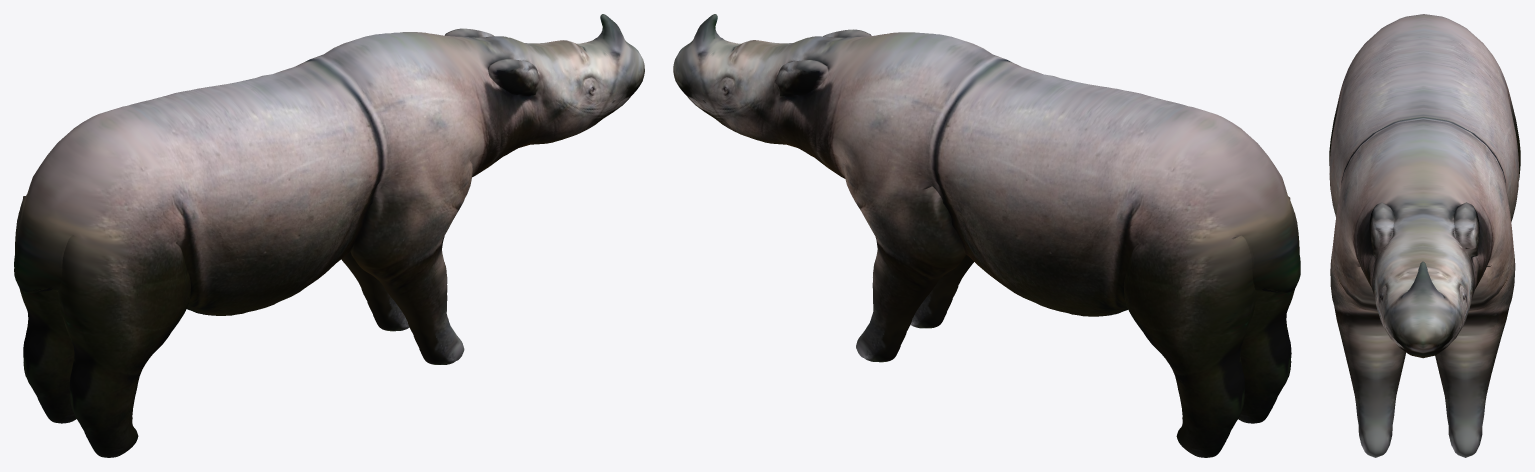
The model's file is sumatran-rhino.glb.
The picture shows the model from 3 angles, left to right: view 1: azimuth 30°, elevation 25°; view 2: azimuth 150°, elevation 25°; view 3: azimuth 270°, elevation 25°; orthographic projection. The views are drawn at different scales.
Visible parts, largest first — view 1: mm_frame (6); view 2: mm_frame (6); view 3: mm_frame (6).
Boxes of the visible parts, x1,y1,x2,y2 form: mm_frame (6): (14,14,644,457); mm_frame (6): (673,14,1300,457); mm_frame (6): (1329,14,1520,457).
Bounding box in the file's own units: 5.93 × 2.97 × 1.62.
1 material, 1 textured.
